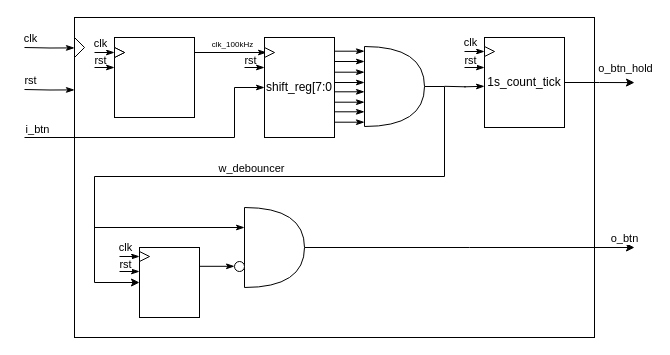
The diagram is 670 pixels wide and 355 high, and some of its shapes have lost their labels. The centre of each missing label's shape, as x and y in pixels:
clk_div_100kHz: (x=154, y=77)
d_ff: (x=169, y=282)
